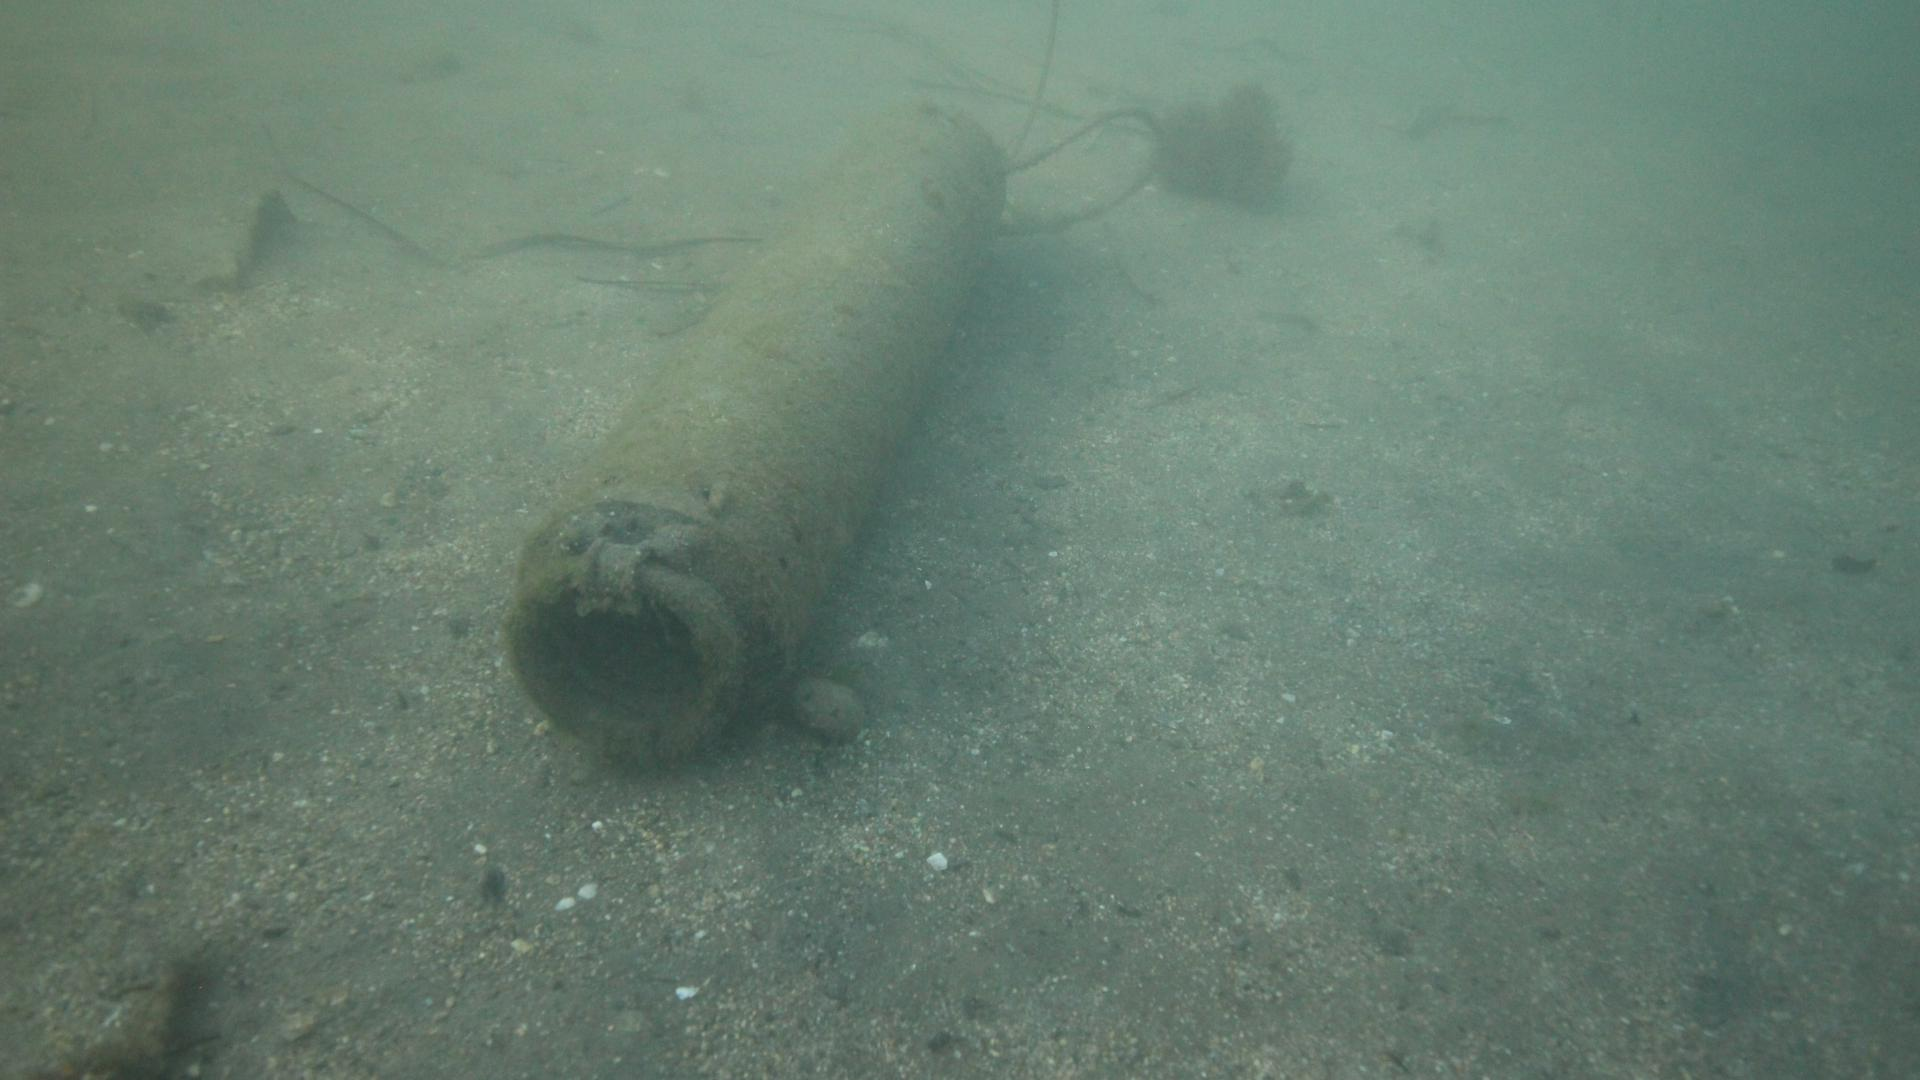eel fish trap: (506, 102, 1009, 767)
rope: (994, 105, 1163, 237)
